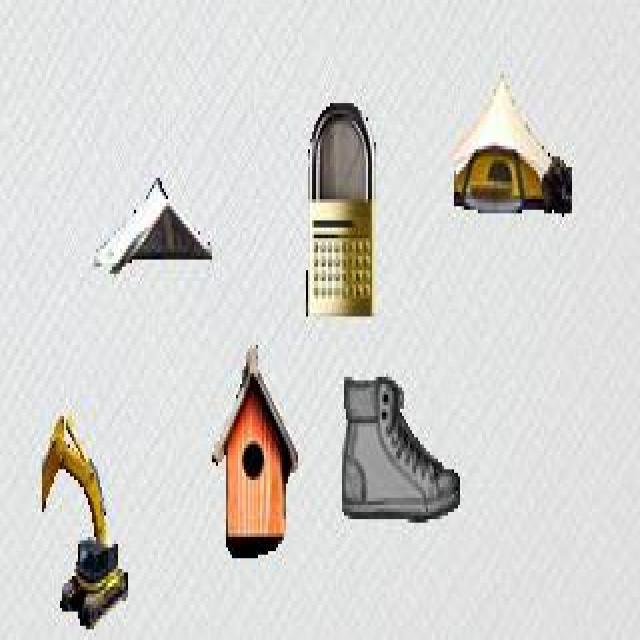Other Objects: (342, 372, 461, 522), (304, 99, 375, 318)
